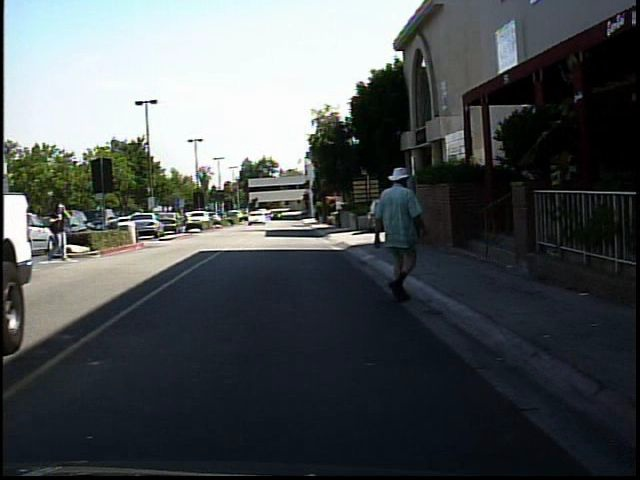person: (370, 155, 434, 308), (46, 196, 75, 268), (179, 205, 194, 229)
